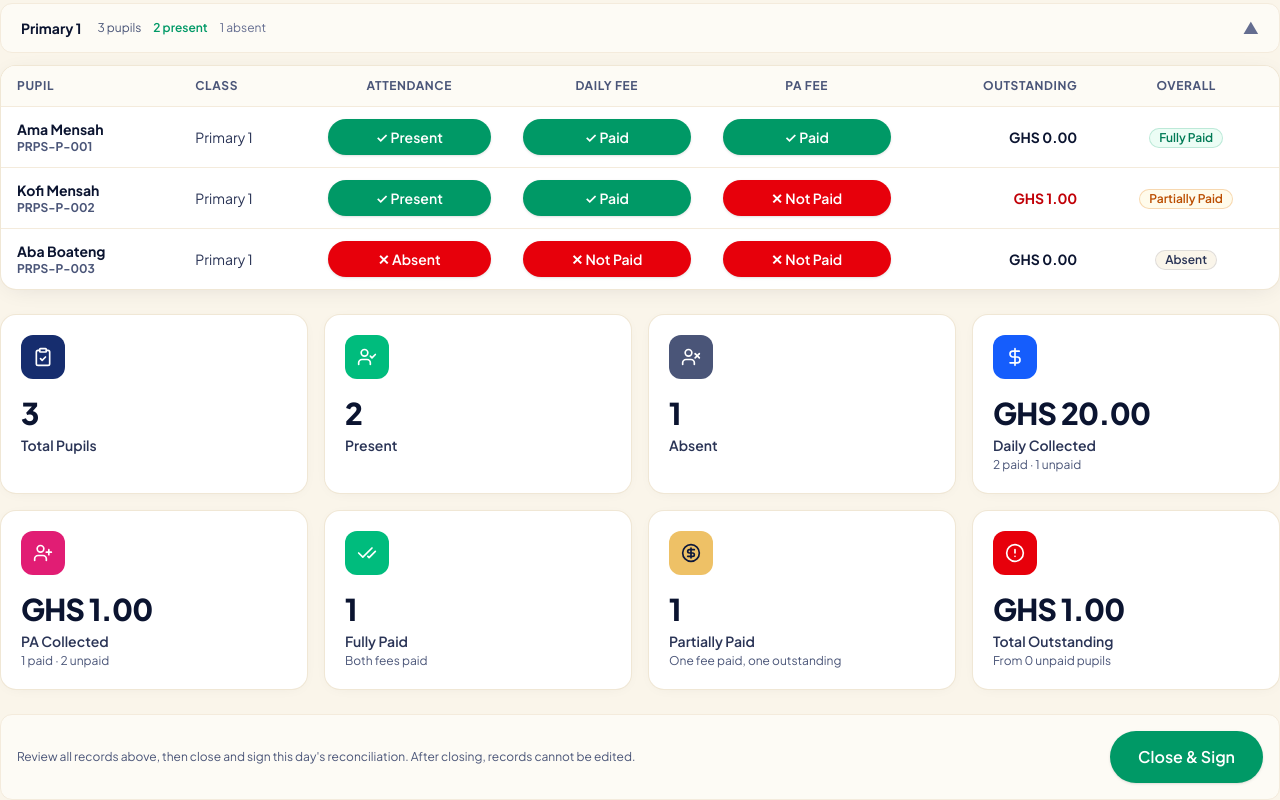
Test: ReconciliationPage › renders Close & Sign as a bottom-right pill after the records and opens the confirm dialog
(page scrolled)
Expected: the text "Close & Sign Daily Fees" is not shown
Expected: the text "Review all records above" is shown, top-left (17, 748), bottom-right (635, 764)
Click the button "Close & Sign" at coordinates (1187, 756), box top-left (1110, 730), bottom-right (1263, 782)
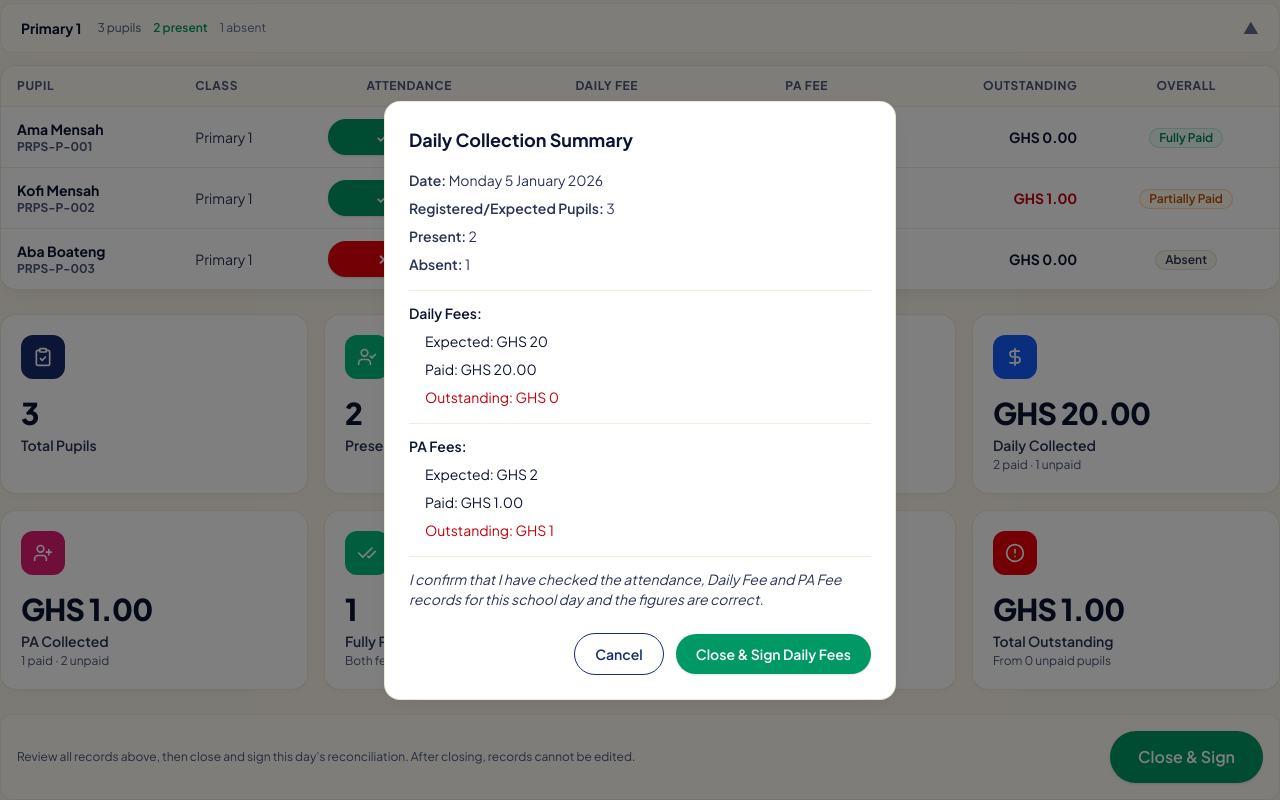
Expected: the heading "Daily Collection Summary" is shown, top-left (409, 128), bottom-right (633, 150)
Expected: the button "Close & Sign Daily Fees" is shown, top-left (676, 634), bottom-right (871, 674)
